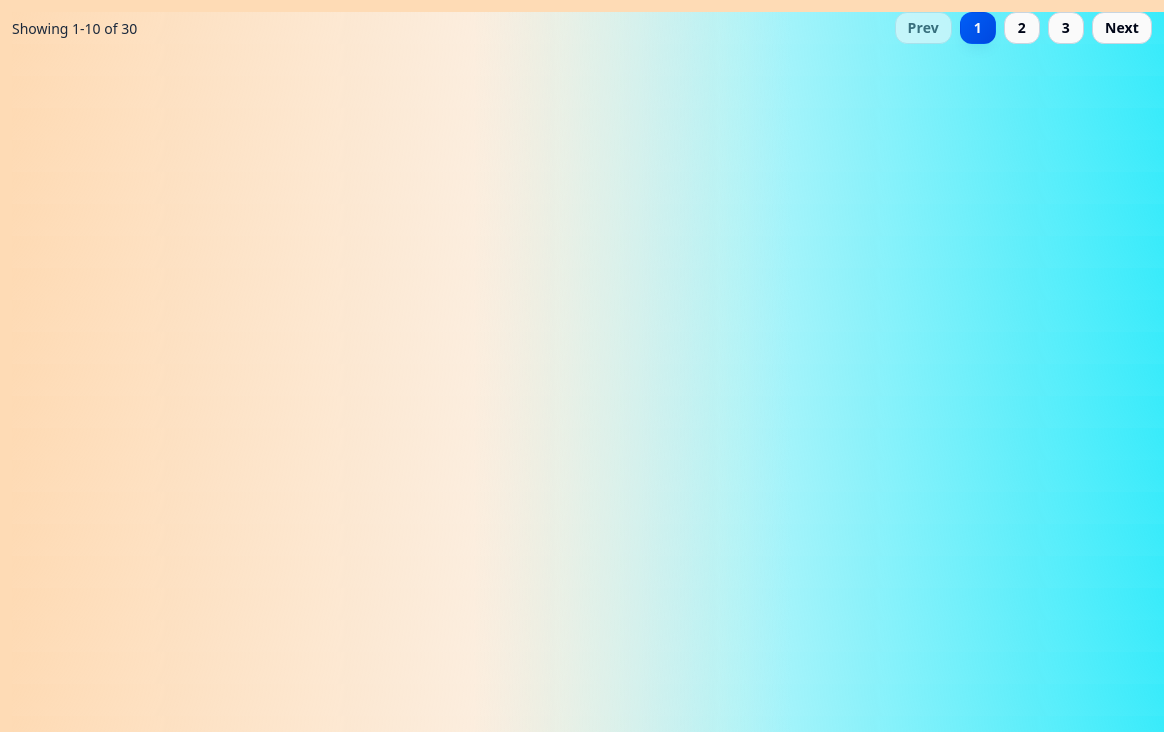
Pagination: boundaries and summary (D15) › disables Prev on the first page and Next on the last page
Expected: the button "Prev" is disabled, [894,12,952,44]
Click the button "Next": point(1122, 28) [1092,12,1152,44]
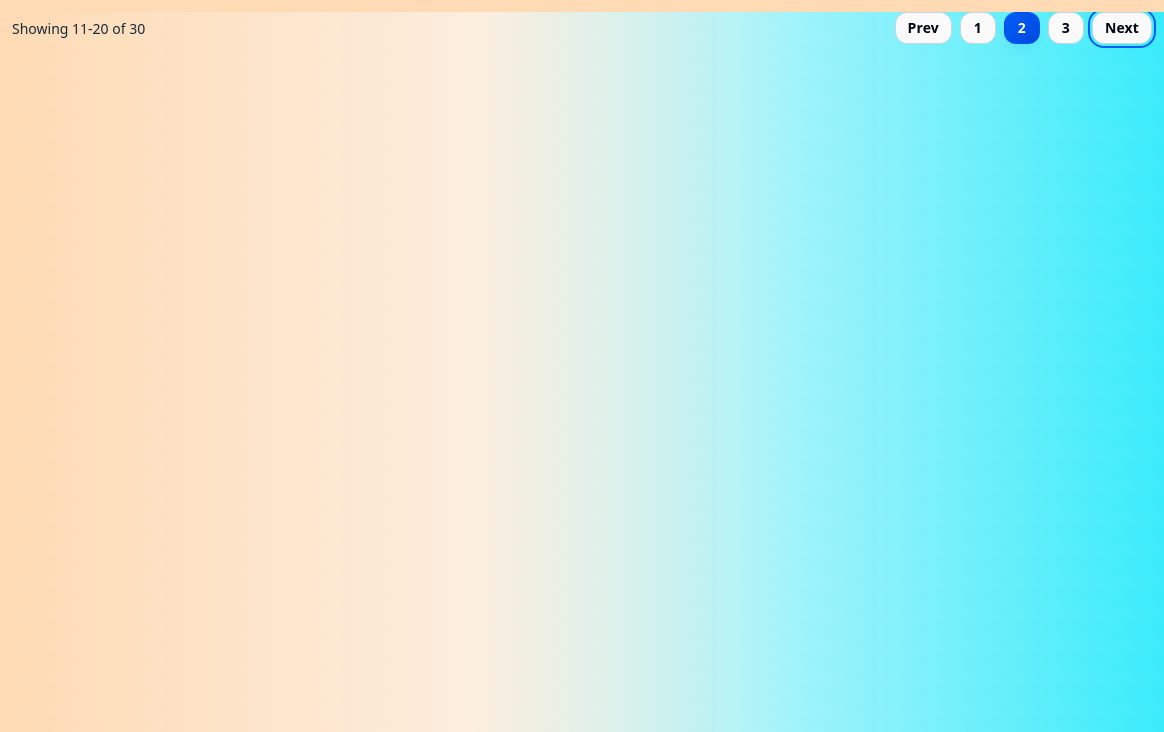
Click the button "Next": point(1122, 28) [1092,12,1152,44]
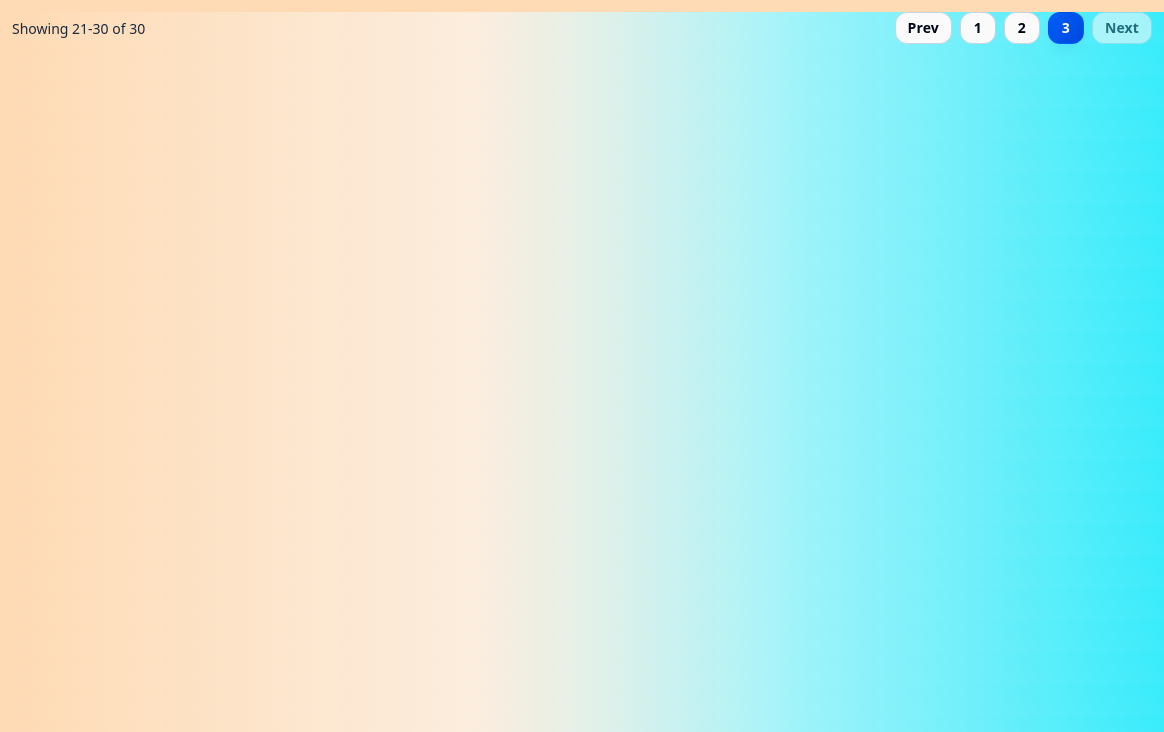
Now the button "Prev" is enabled, box [894,12,952,44]
Now the button "Next" is disabled, box [1092,12,1152,44]
